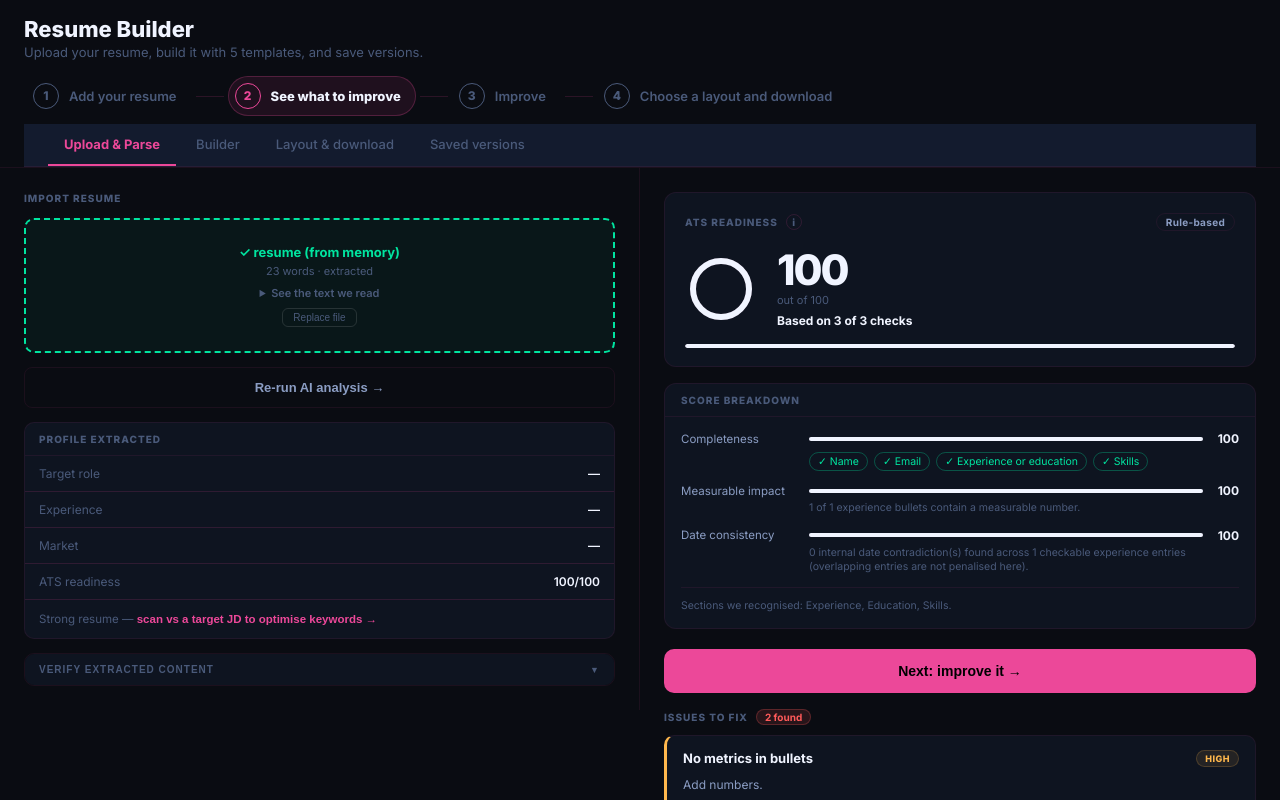
Test: the right column is the resume › does not carry the score or the suggestions until the user opens Review
The image size is (1280, 800).
Click the button "Builder" at [218, 145], box [180, 124, 256, 166]
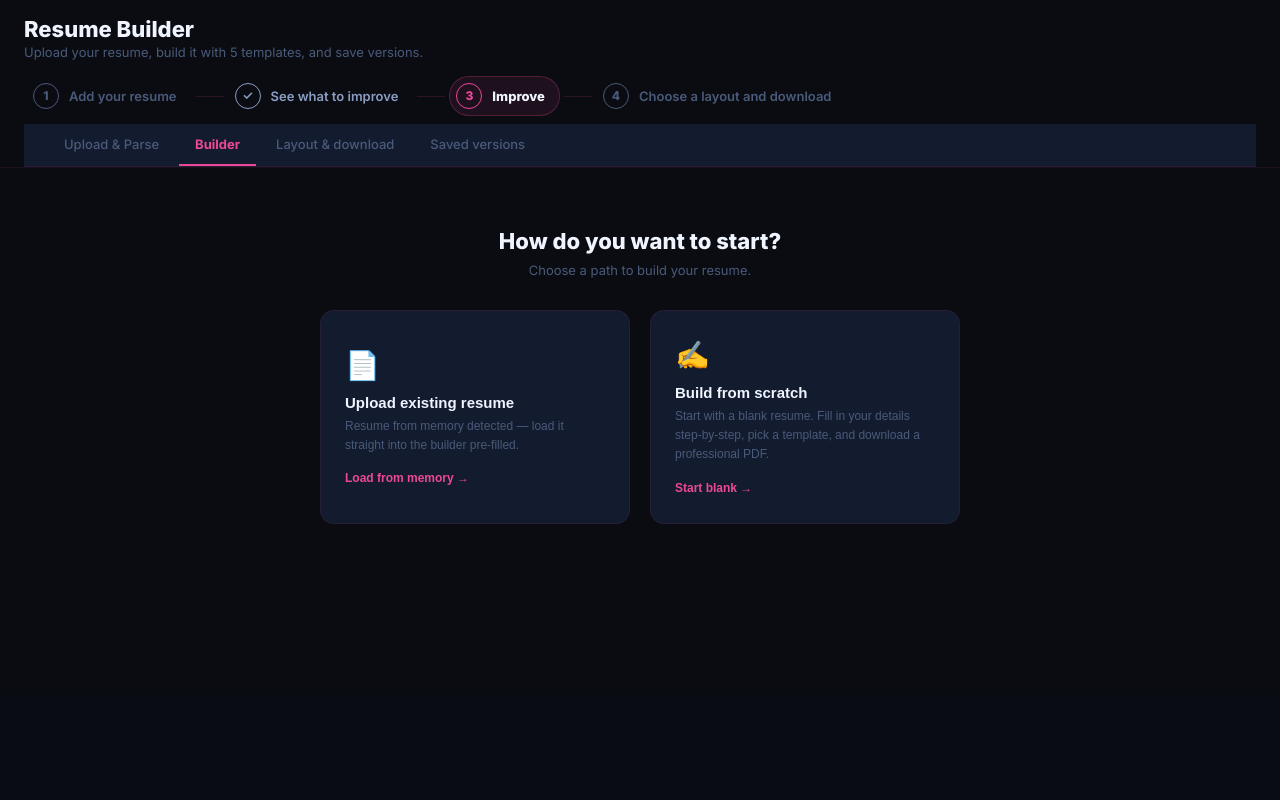
Click the text "Load from memory →" at [407, 478], box [345, 471, 469, 485]
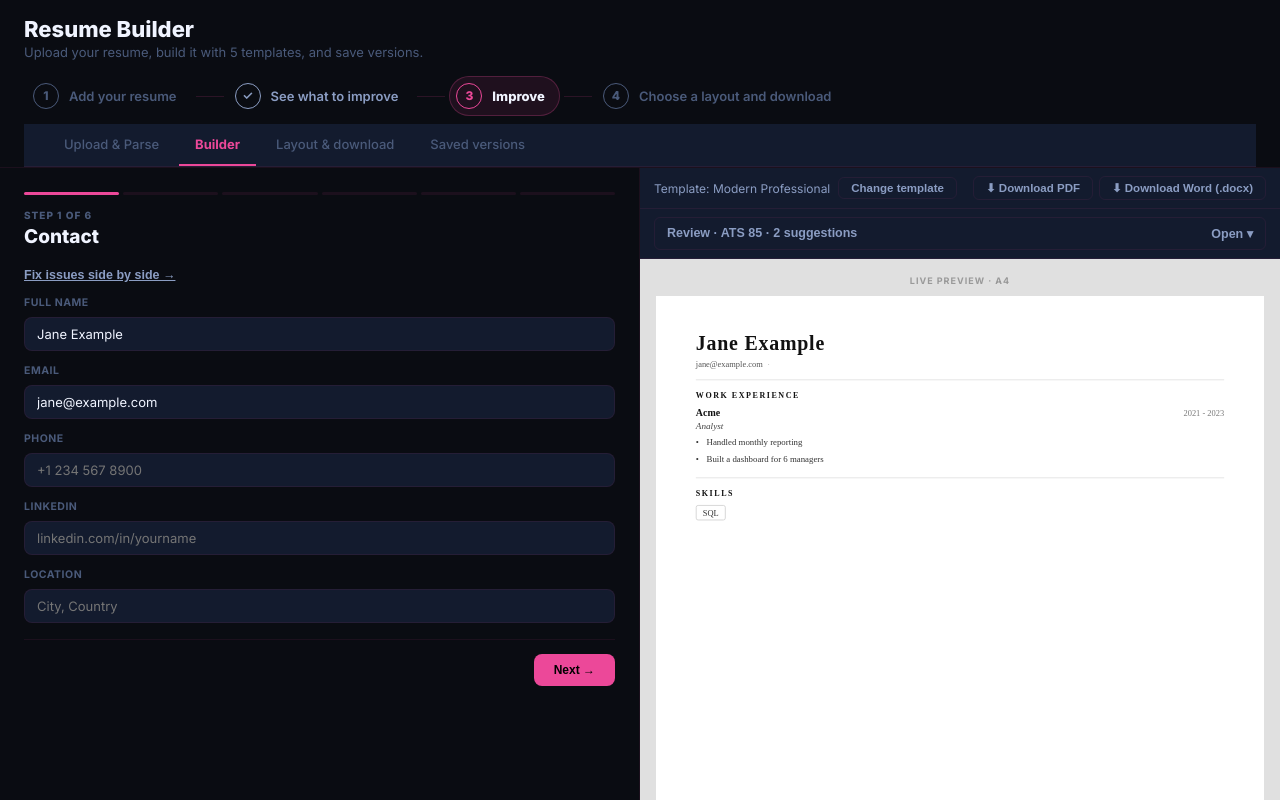
Now the text "Live Preview · A4" is shown, box [910, 275, 1010, 286]
